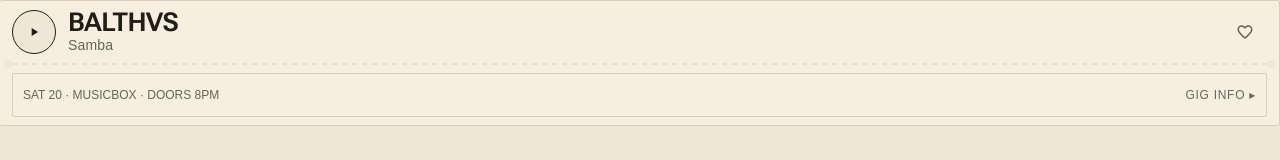
Test: TrackRow — stub flip + back face (Task 2.3) › flips open on the gig chip and closes on the ✕
Note: Flip open → back content becomes visible/accessible.
Click the button "SAT 20 · MUSICBOX · DOORS 8PM Gig info ▸". click: (121, 95)
box: [12,73,1267,117]
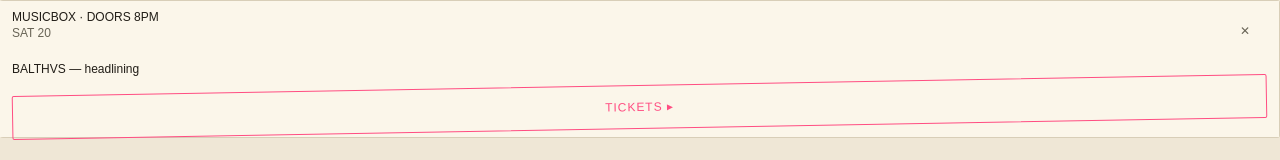
Expected: the link "Tickets ▸" is shown, [12,74,1267,140]
Expected: the button "SAT 20 · MUSICBOX · DOORS 8PM Gig info ▸" is expanded, [12,73,1267,117]
Note: ✕ closes it again.
Click the button named "close". click: (1245, 31)
box: [1223,9,1267,53]
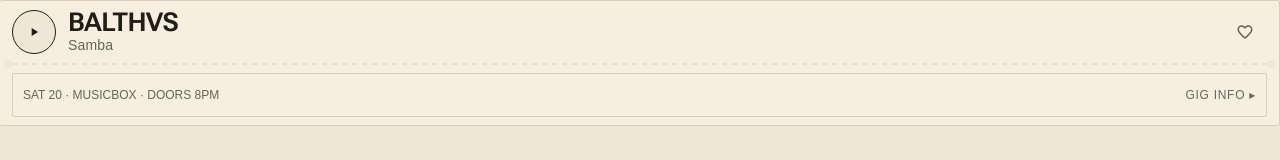
Expected: the button "SAT 20 · MUSICBOX · DOORS 8PM Gig info ▸" is collapsed, [12,73,1267,117]
